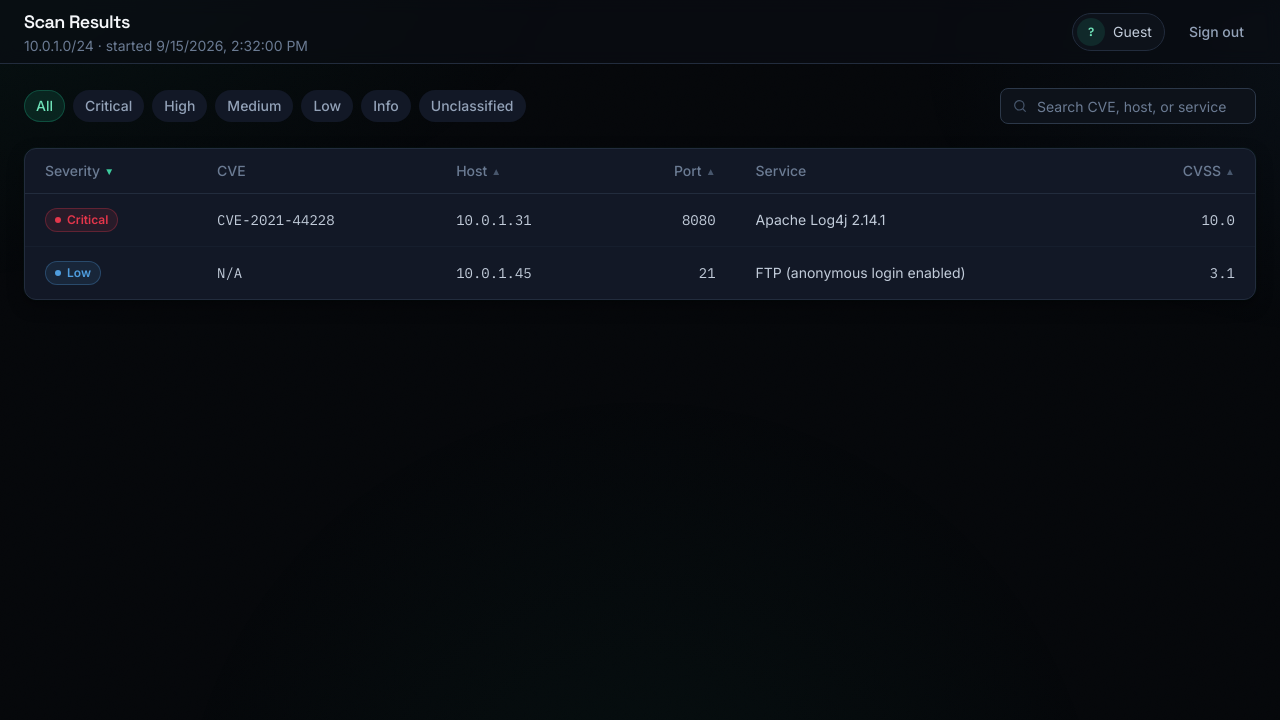
Test: ScanResults › opens the detail panel at Level 1 showing only CVE and severity
What coordinates should you click on to do the following:
click the text "CVE-2021-44228"
I would click on:
 (276, 220)
Its box is [217, 211, 335, 229].
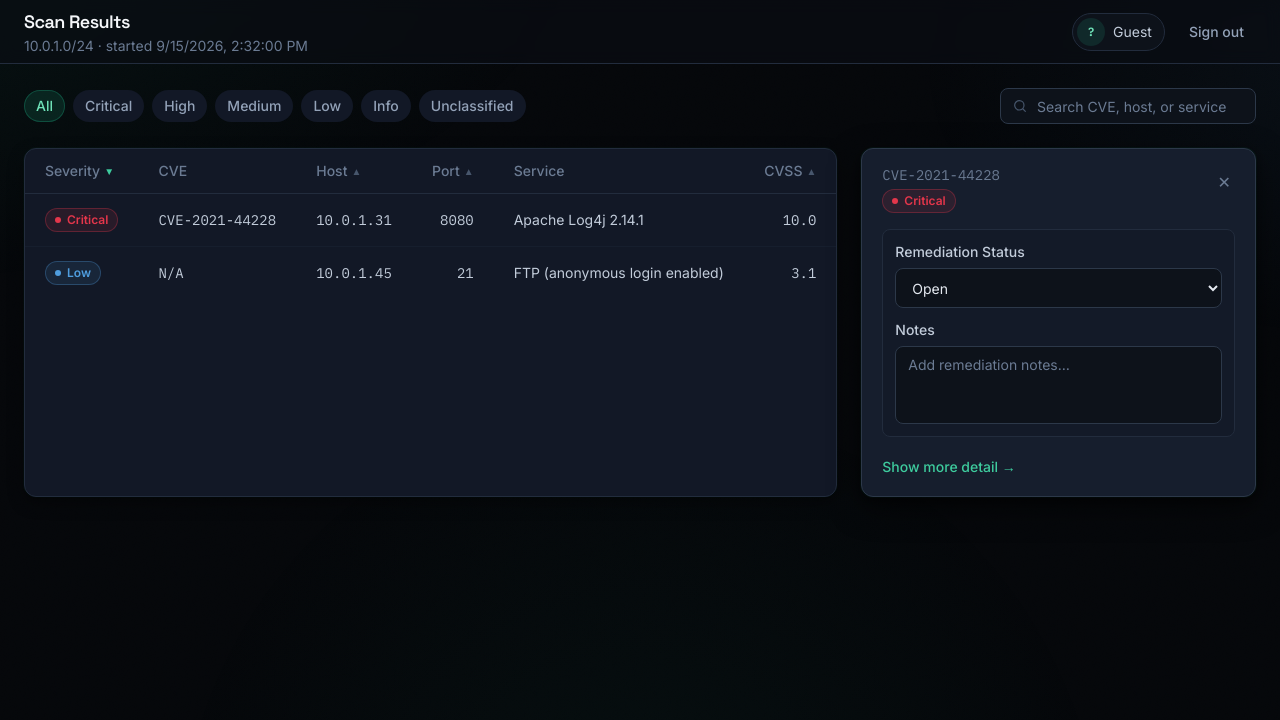
Now the button "Show more detail →" is shown, box [882, 457, 1016, 477]
